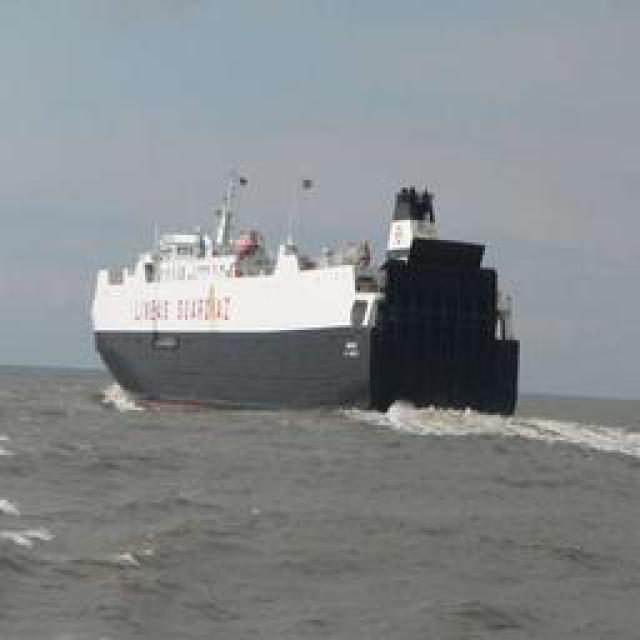Ship: (93, 166, 550, 438)
